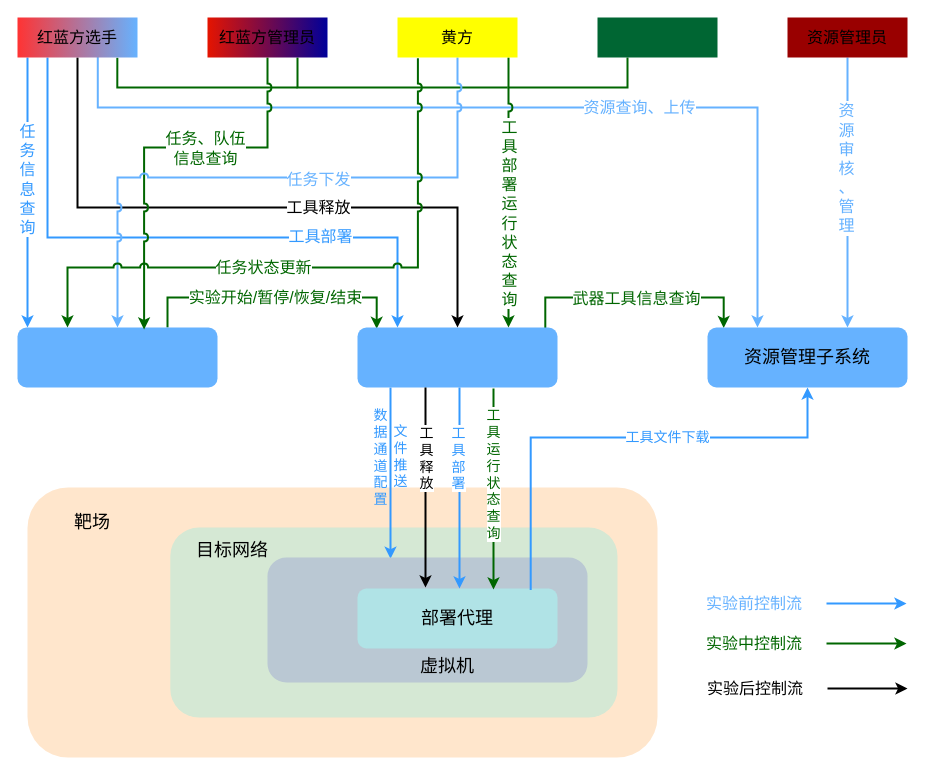
Image size: 933x774. Some labels were removed from this diagram. The shapes that lost their labels are listed below. From the top down, each one's centre as x and y in pixels, then its label:
At (657,37): "绿方".
At (117,357): "任务管理子系统".
At (457,357): "部署管理子系统".
